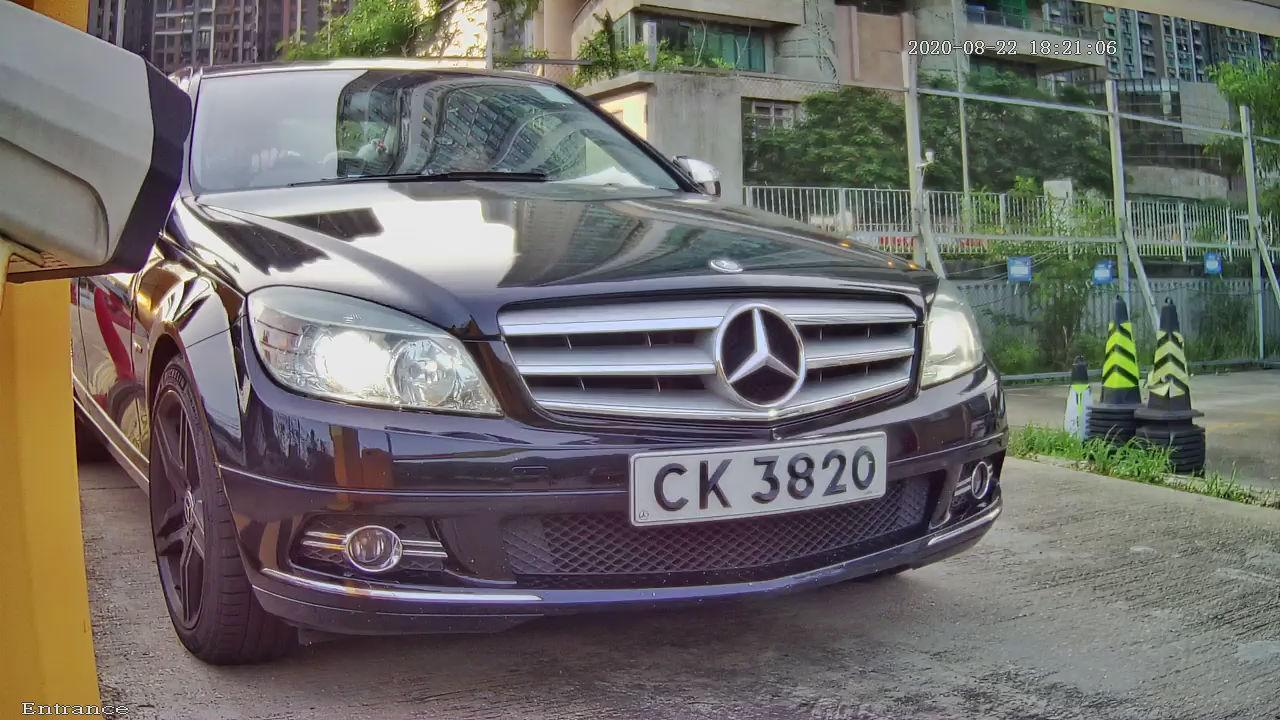Car: (41, 23, 1092, 679)
License Plate: (573, 391, 920, 593)
